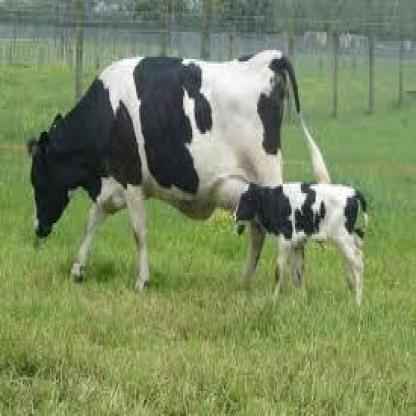cow: (31, 53, 290, 290), (235, 184, 364, 309)
